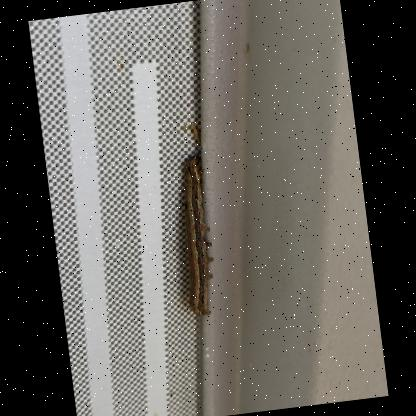Fall Armyworm Larvae: (167, 148, 224, 322)
